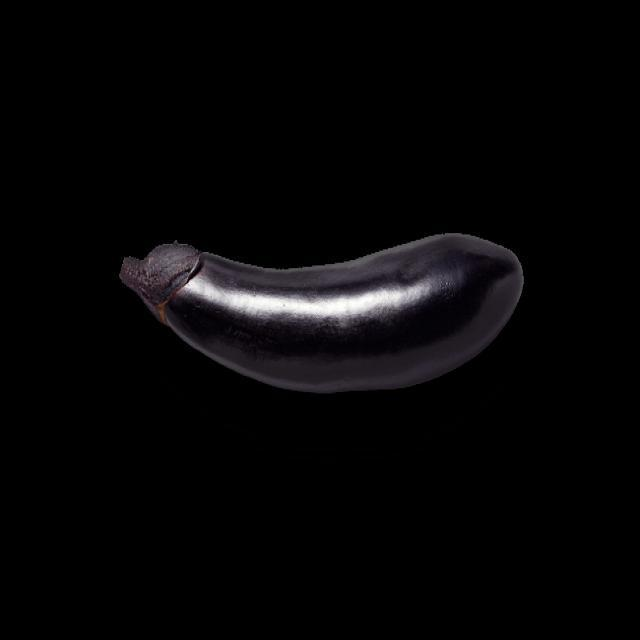eggplant: (79, 208, 544, 442)
